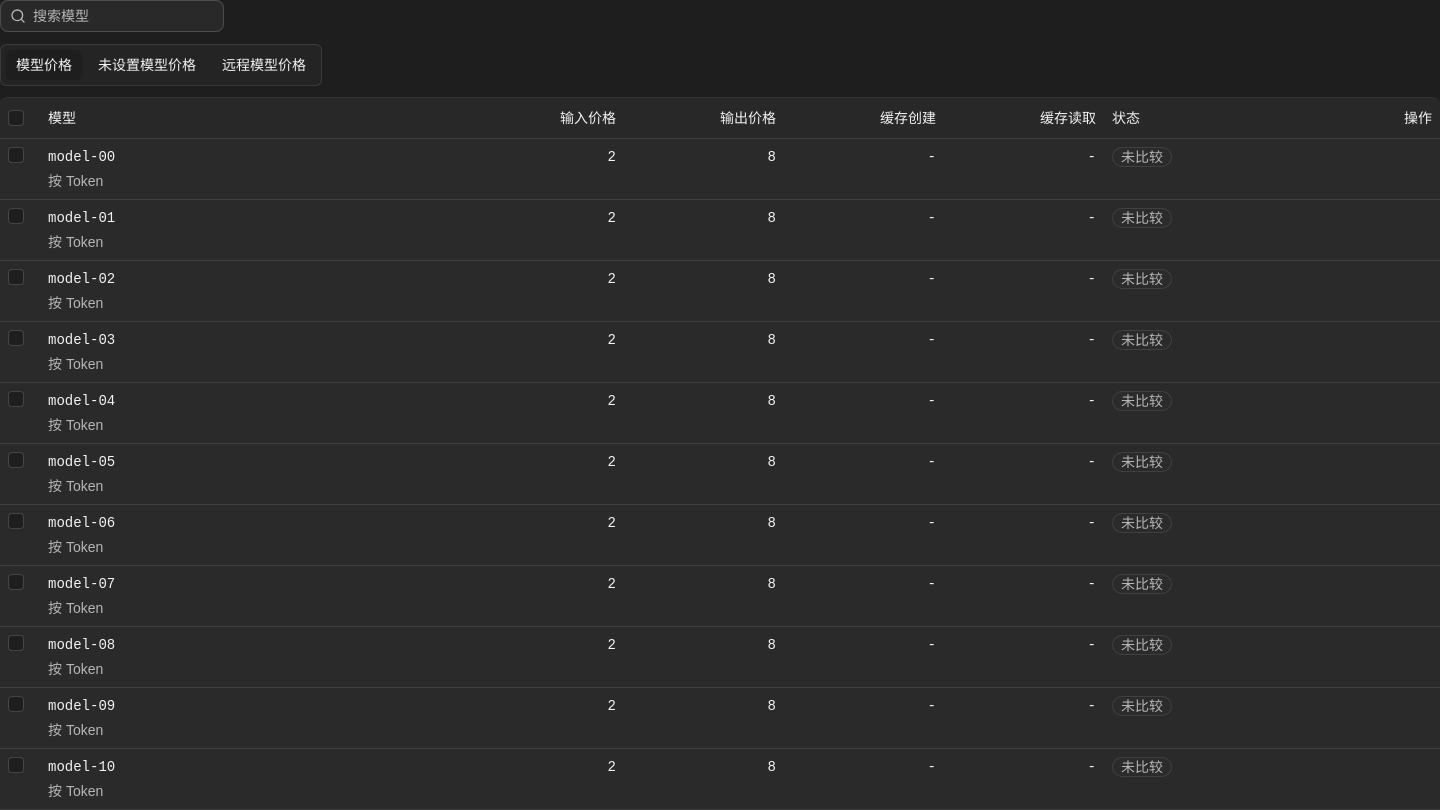
Scenario: 批量模型价格同步 › 筛选和翻页后保留选择，取消预览不写入平台
Click the checkbox named "选择模型 model-00" at {"x": 16, "y": 154}, box top-left (8, 146), bottom-right (24, 162)
(page scrolled)
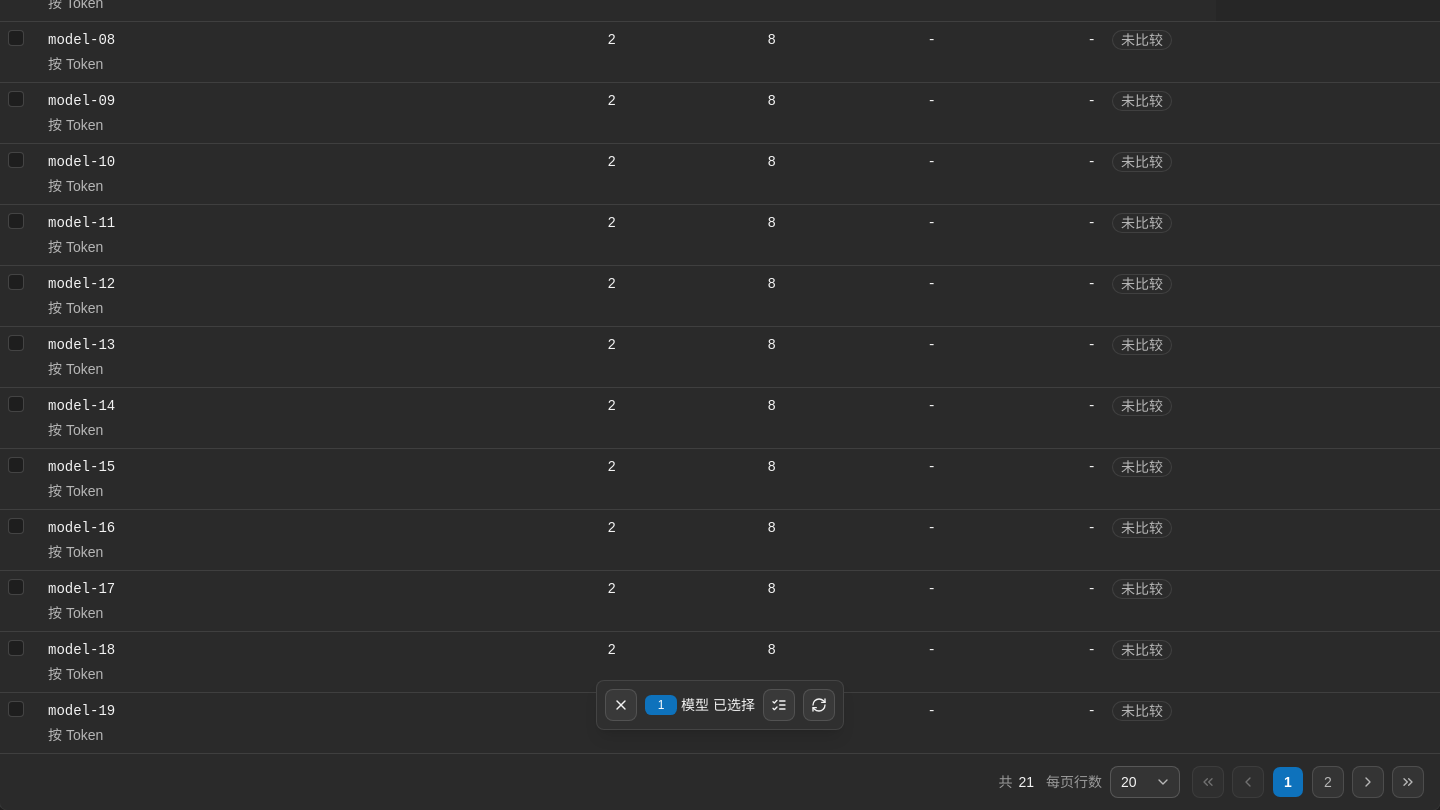
Click the button named "转到下一页" at {"x": 1368, "y": 782}, box top-left (1352, 766), bottom-right (1384, 798)
(page scrolled)
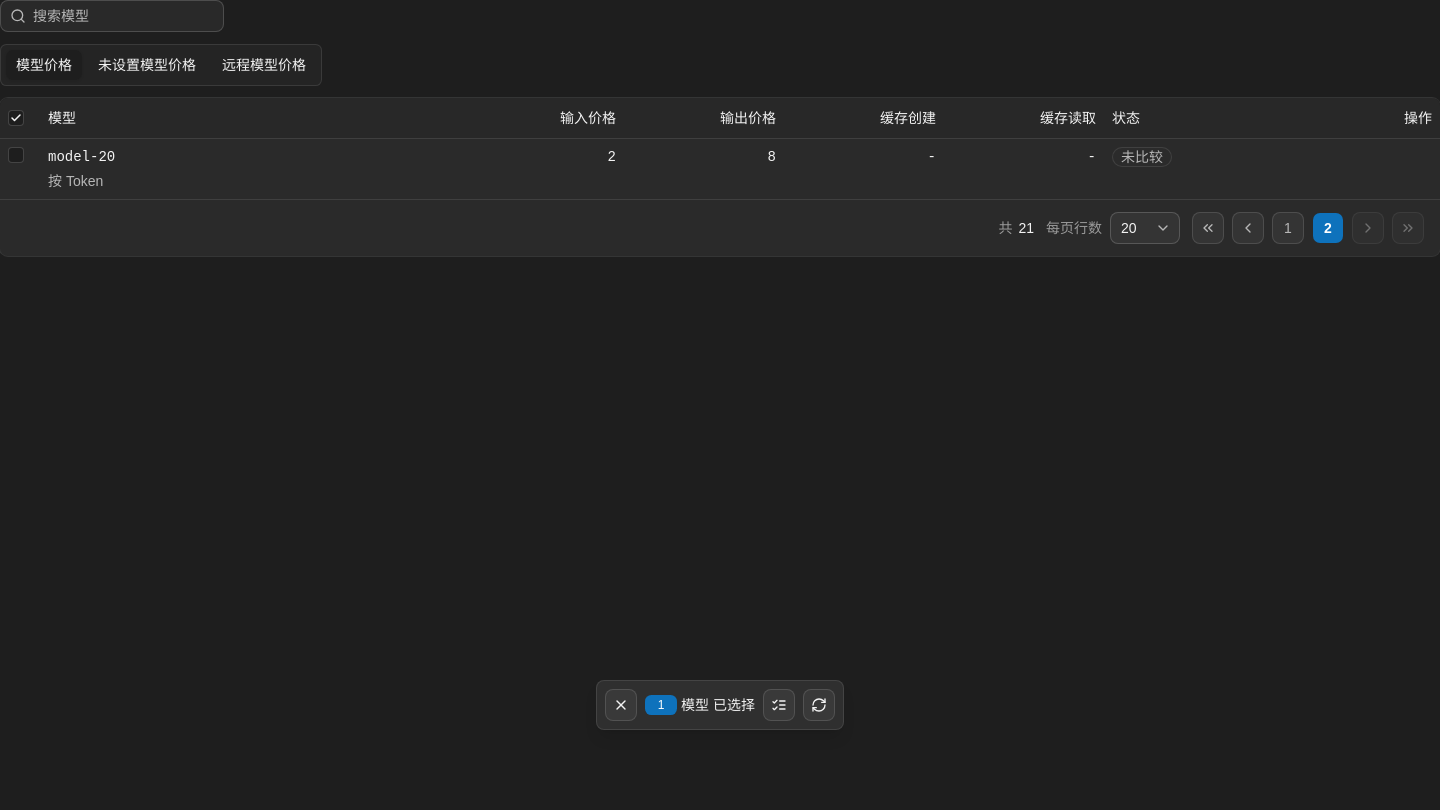
Click the checkbox named "选择模型 model-20" at {"x": 16, "y": 154}, box top-left (8, 146), bottom-right (24, 162)
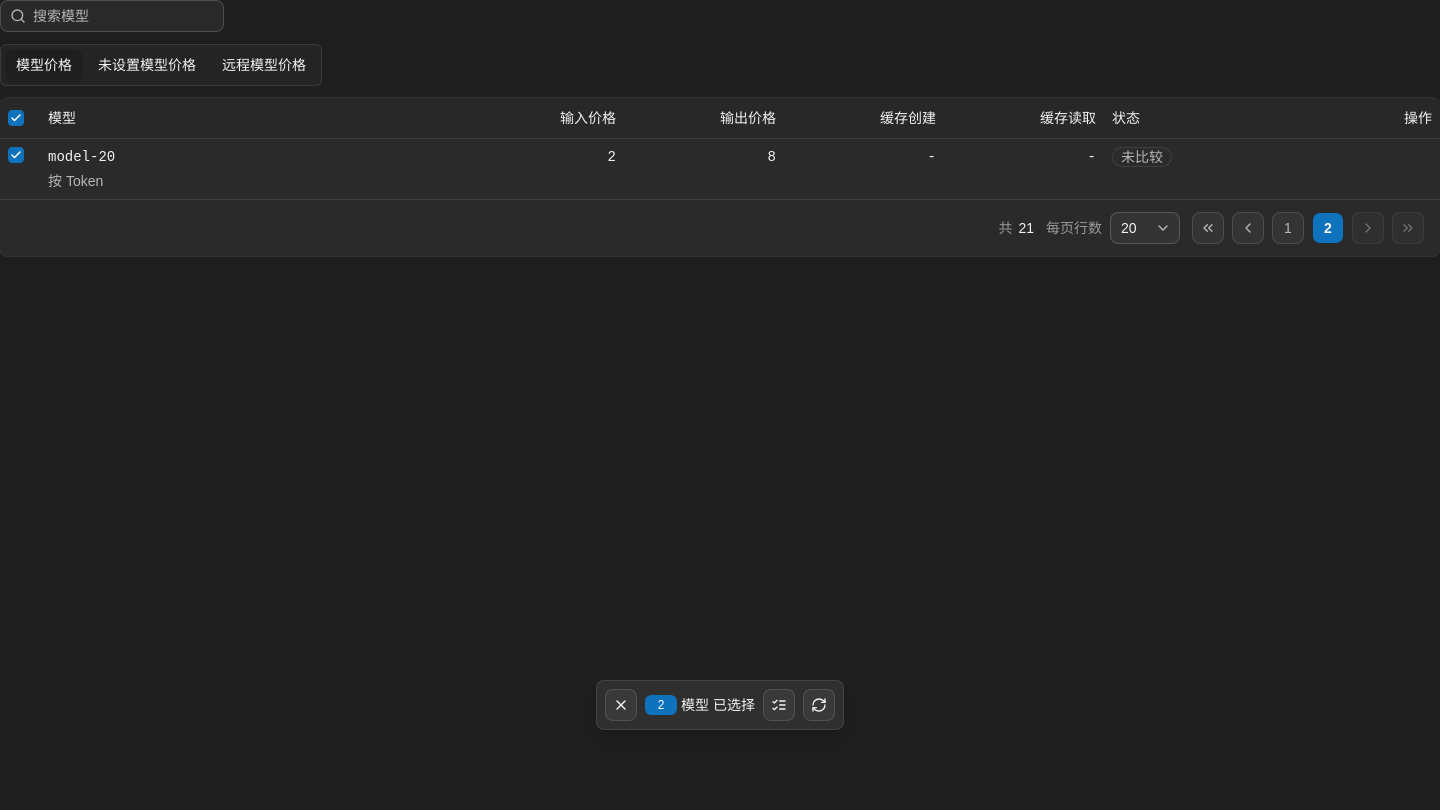
Type "model-20" into the field labelled "搜索模型" at {"x": 112, "y": 16}, box top-left (0, 0), bottom-right (224, 32)
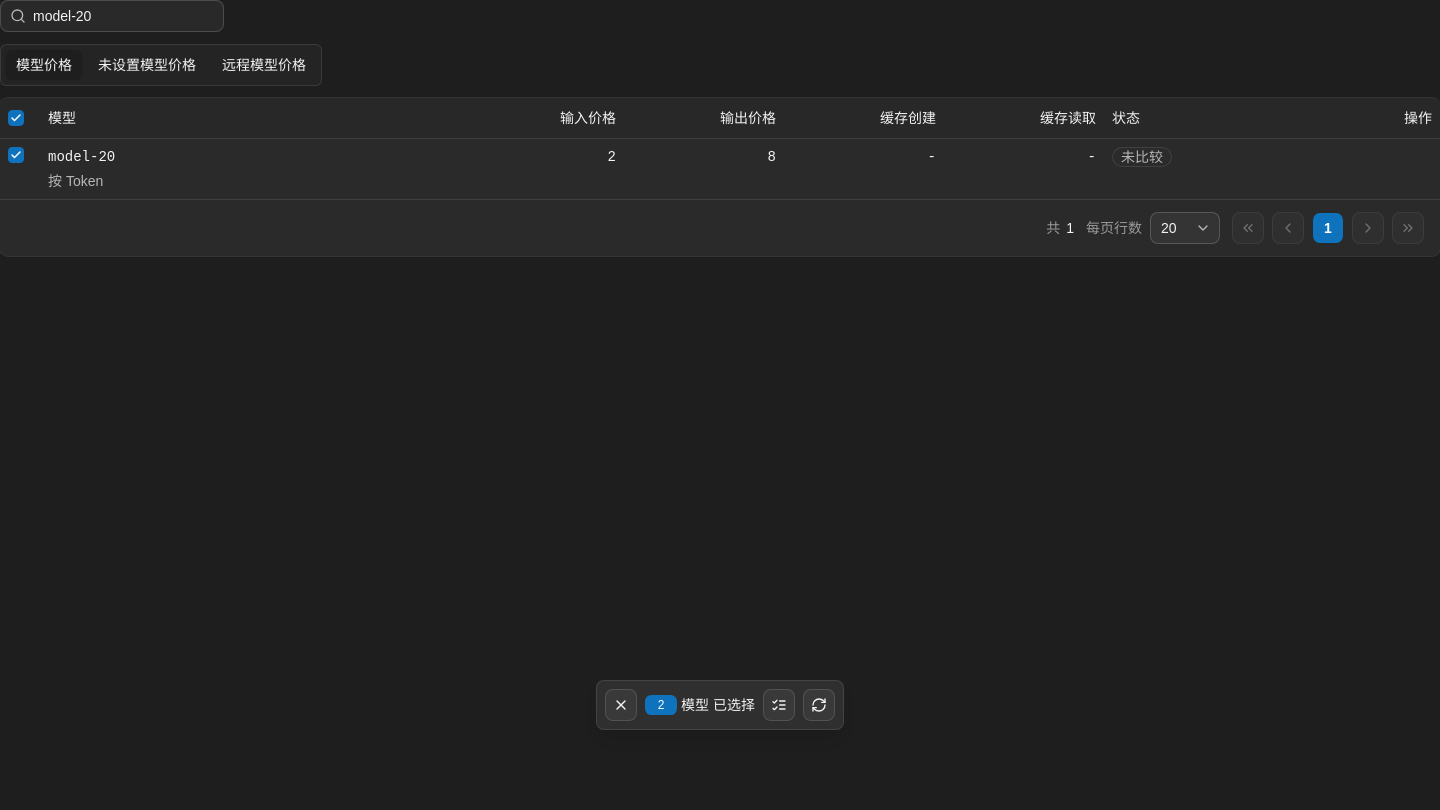
Now the checkbox named "选择模型 model-20" is checked, box top-left (8, 146), bottom-right (24, 162)
Click the button named "批量同步（2）" at {"x": 819, "y": 705}, box top-left (803, 689), bottom-right (835, 721)
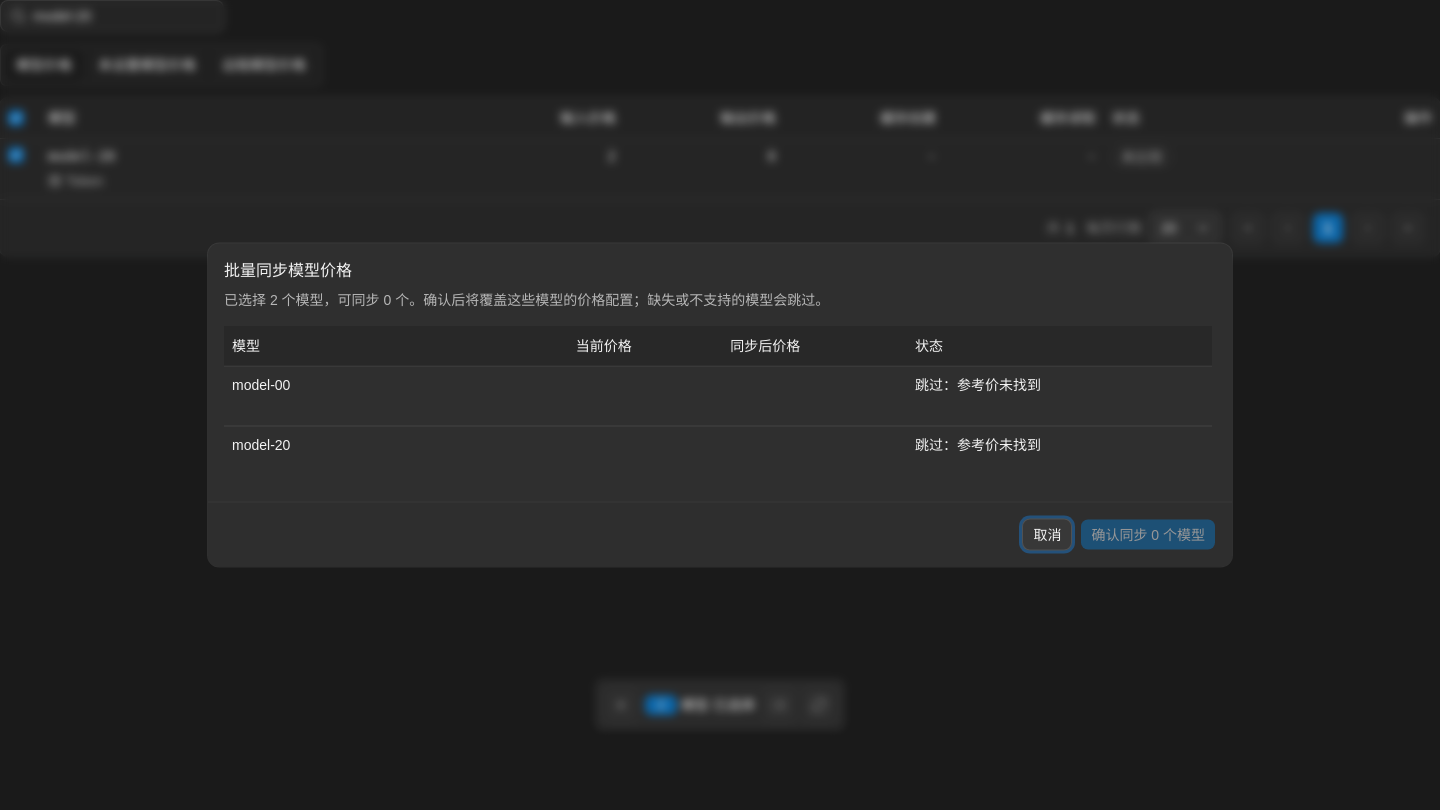
Now the text "model-00" is shown, box top-left (224, 366), bottom-right (568, 426)
Now the text "model-20" is shown, box top-left (224, 426), bottom-right (568, 486)
Click the button "取消" at {"x": 1047, "y": 534}, box top-left (1022, 518), bottom-right (1072, 550)
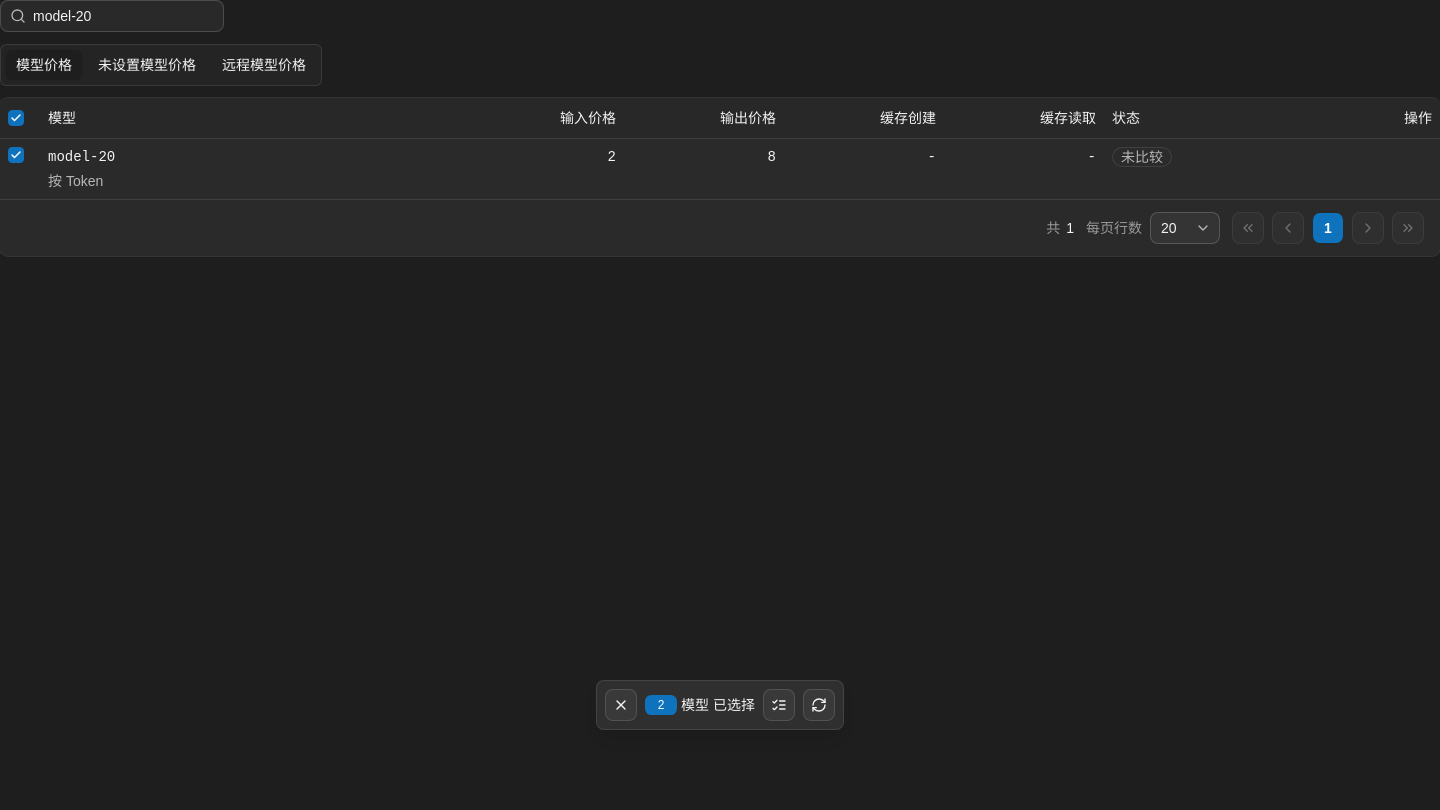
Now the button named "批量同步（2）" is enabled, box top-left (803, 689), bottom-right (835, 721)
